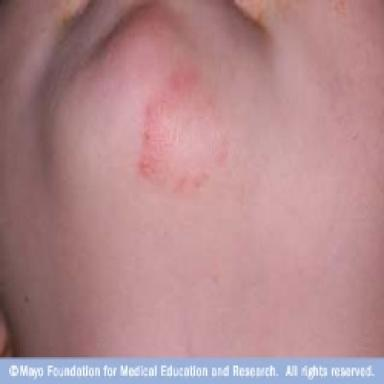Tinea-Corporis: (136, 64, 229, 193)
